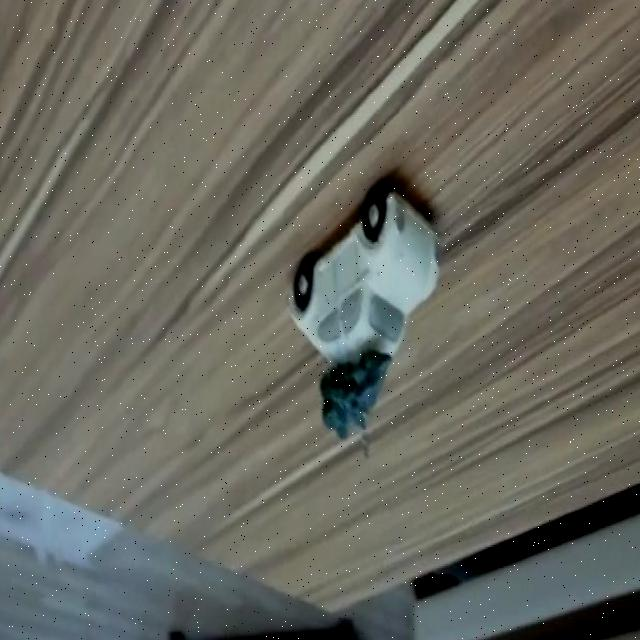car: (288, 198, 442, 359)
